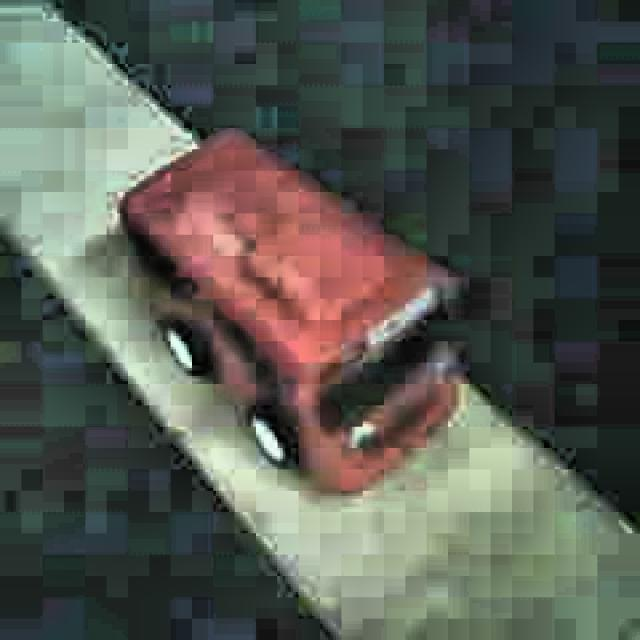bus: (116, 127, 461, 499)
